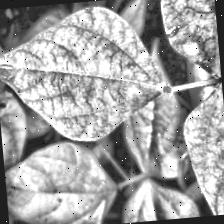Bean Rust: (159, 0, 221, 80)
